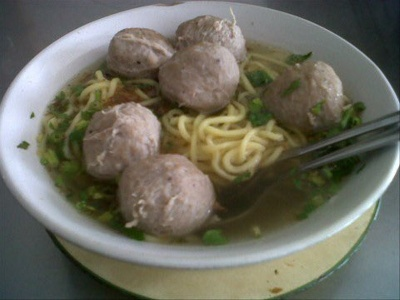bakso: (82, 20, 341, 235)
